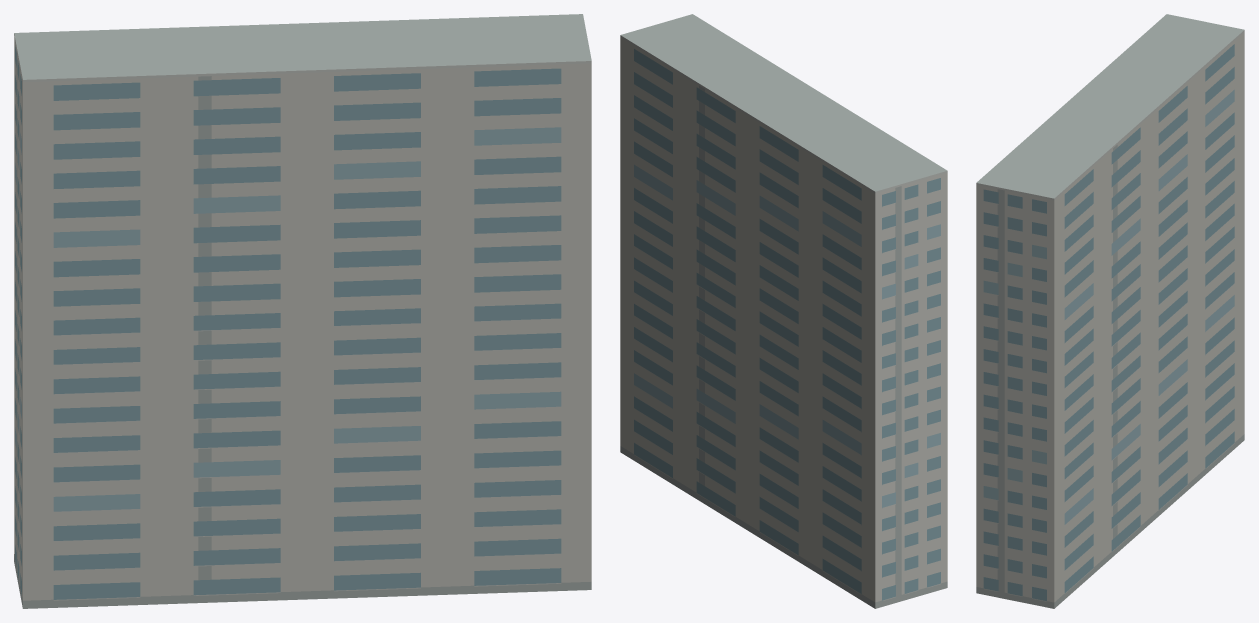
File: residential-6e4e4f4d-8766-4b5b-943a-8e9488c5550d.glb
The picture shows the model from 3 angles, left to right: view 1: azimuth 30°, elevation 25°; view 2: azimuth 150°, elevation 25°; view 3: azimuth 270°, elevation 25°; orthographic projection. The views are drawn at different scales.
Parts seen in each view (by area): view 1: residential-6e4e4f4d-8766-4b5b-943a-8e9488c5550d.tmp; view 2: residential-6e4e4f4d-8766-4b5b-943a-8e9488c5550d.tmp; view 3: residential-6e4e4f4d-8766-4b5b-943a-8e9488c5550d.tmp.
Boxes of the visible parts, x1,y1,x2,y2 form: residential-6e4e4f4d-8766-4b5b-943a-8e9488c5550d.tmp: (14,14,591,608); residential-6e4e4f4d-8766-4b5b-943a-8e9488c5550d.tmp: (620,14,947,608); residential-6e4e4f4d-8766-4b5b-943a-8e9488c5550d.tmp: (976,14,1244,608).
Bounding box in the file's own units: 50.17 × 52 × 30.85.
